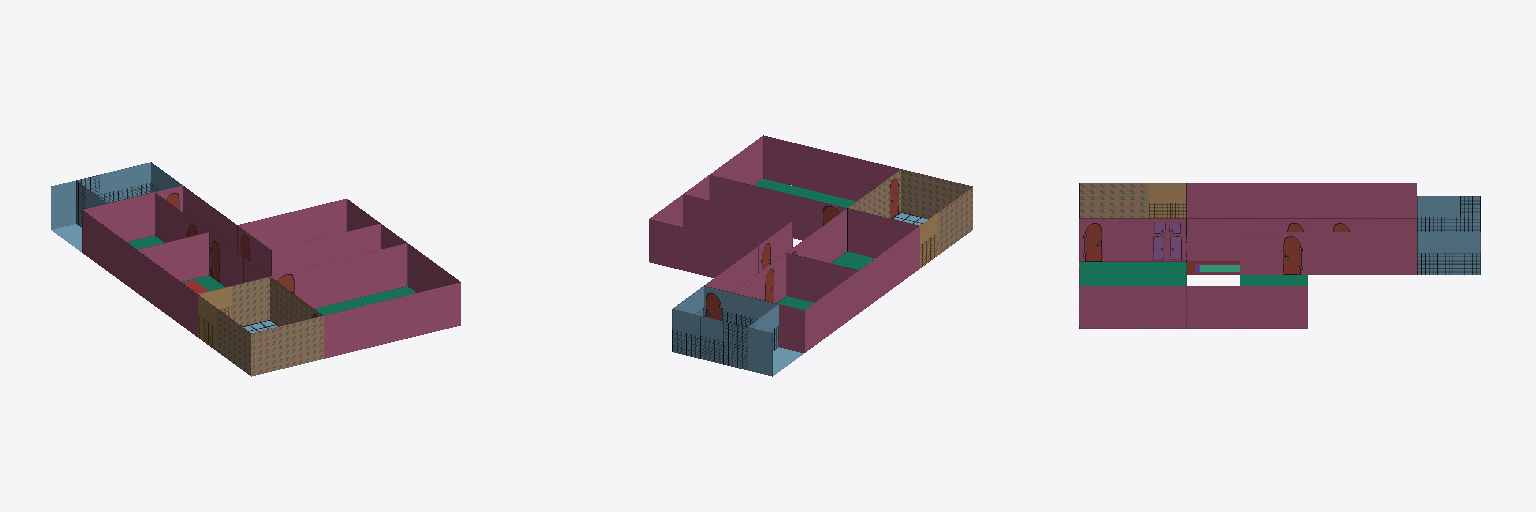
The picture shows the model from 3 angles: view 1: azimuth 30°, elevation 25°; view 2: azimuth 150°, elevation 25°; view 3: azimuth 270°, elevation 25°; orthographic projection.
Visible parts, largest first — view 1: Cube_Cube.009; view 2: Cube_Cube.009; view 3: Cube_Cube.009.
Part boxes in pixels (x1,y1,x2,y2): Cube_Cube.009: (51, 162, 460, 376); Cube_Cube.009: (649, 135, 972, 376); Cube_Cube.009: (1079, 183, 1480, 328).
Size of the model in its own units: 129 by 25.35 by 213.
1 materials, 1 textured.